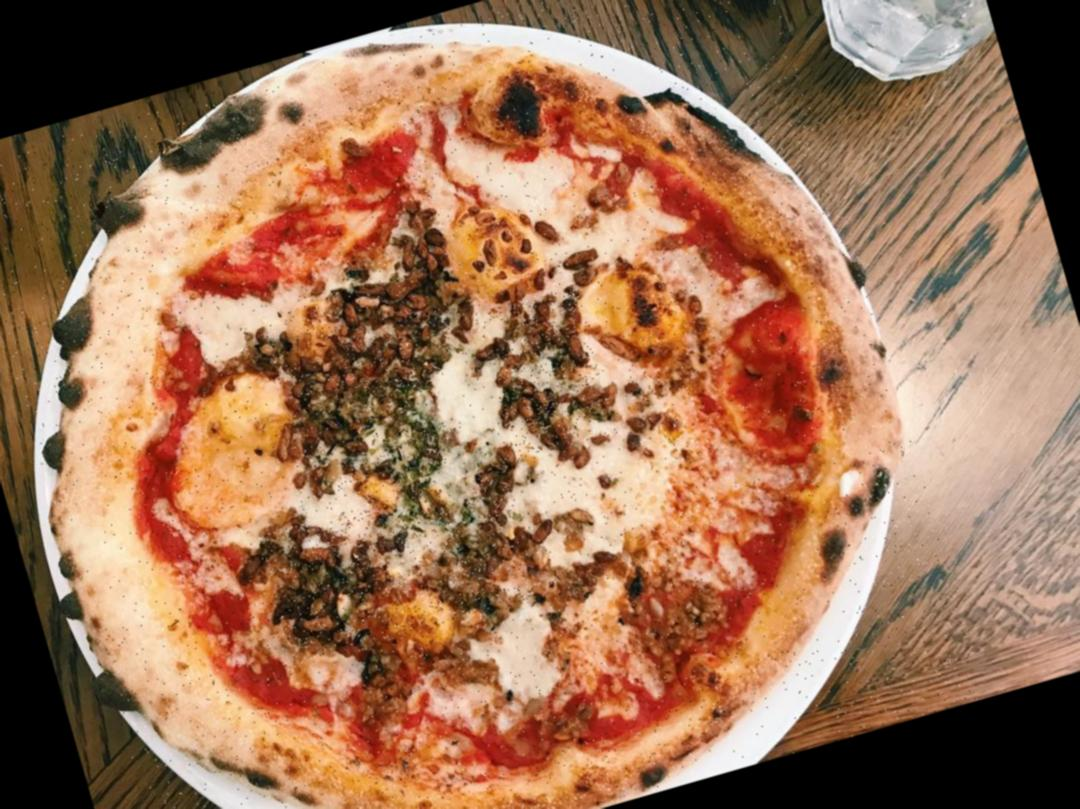Arugula: (258, 466, 540, 666), (260, 274, 453, 532), (475, 284, 618, 460)
Pizza: (0, 0, 985, 809)
